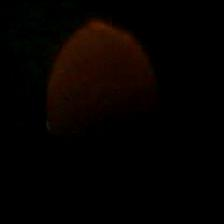fertile: (42, 20, 158, 172)
